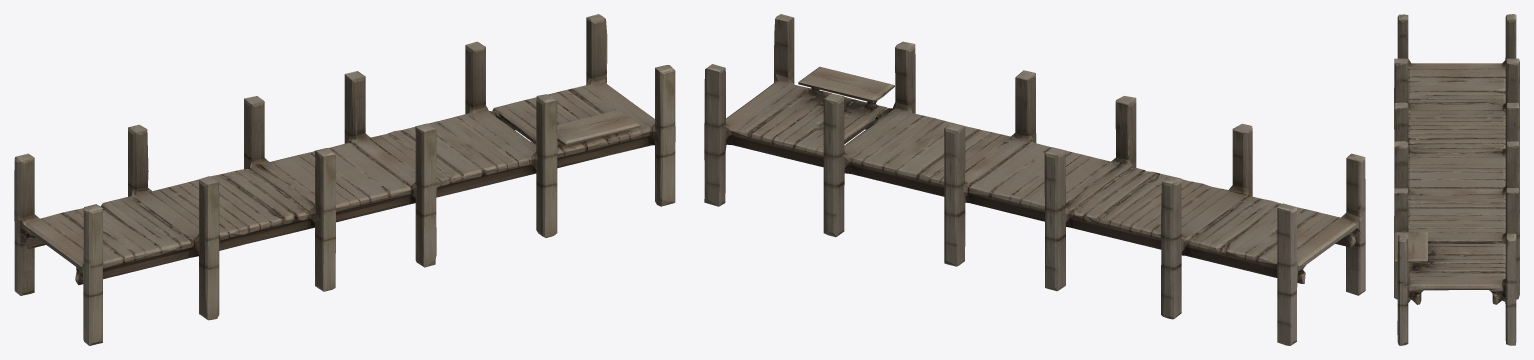
The model's file is pier_plain_lod0.glb.
3 renders of one model, left to right at view 1: azimuth 30°, elevation 25°; view 2: azimuth 150°, elevation 25°; view 3: azimuth 270°, elevation 25°, orthographic. The views are drawn at different scales.
Visible parts, largest first — view 1: pier_plain_lod0; view 2: pier_plain_lod0; view 3: pier_plain_lod0.
Part boxes in pixels (<box>): pier_plain_lod0: <box>14,14,675,345</box>; pier_plain_lod0: <box>704,14,1365,345</box>; pier_plain_lod0: <box>1394,14,1519,345</box>.
Size of the model in its own units: 6 by 1.34 by 1.41.
Materials: 1 (1 with a texture image).
